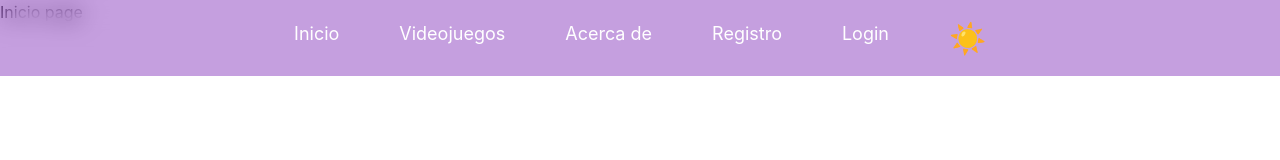
Layout navigation › redirige correctamente a Videojuegos
Click the link "Videojuegos" at (452,34), box [399,23,505,44]
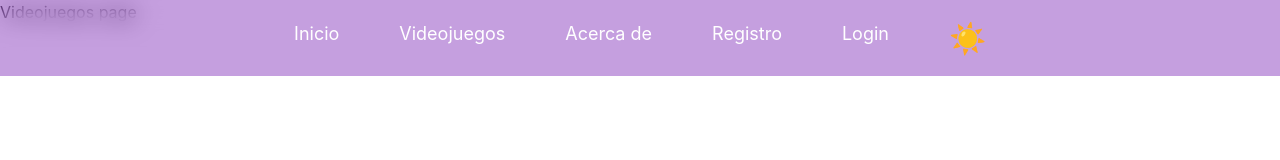
Check: the text "Videojuegos page" is shown, box [0,2,137,22]
